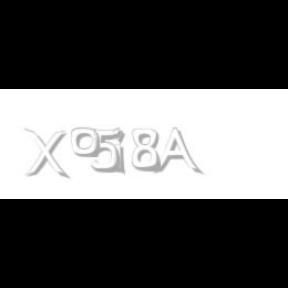5: (91, 128, 122, 174)
8: (132, 128, 160, 172)
A: (152, 128, 200, 176)
X: (23, 128, 67, 180)
i: (113, 128, 129, 176)
o: (70, 128, 100, 158)
